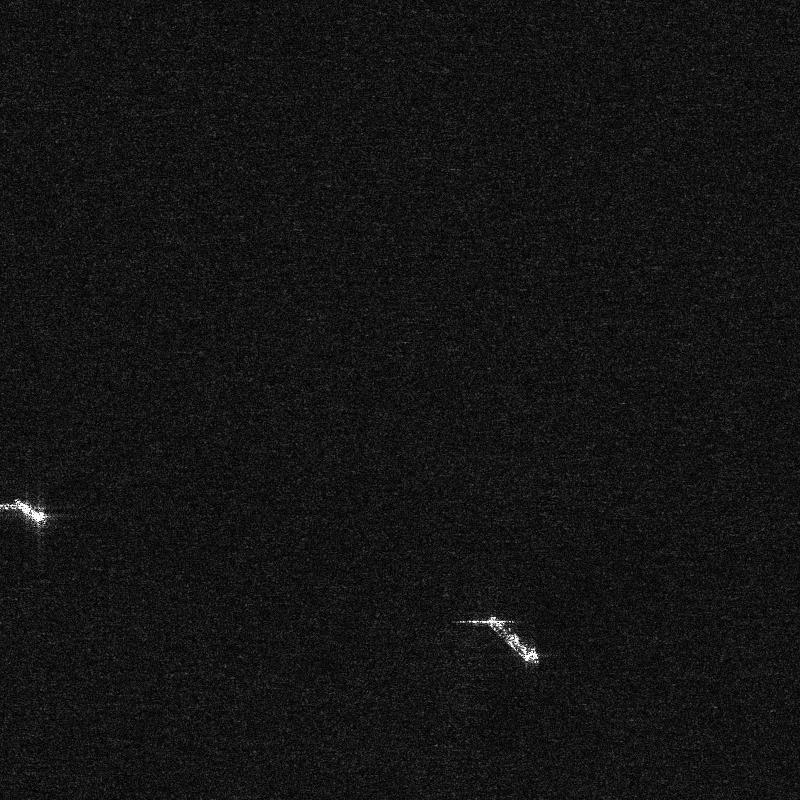ship: (486, 616, 540, 663), (14, 497, 47, 526)
